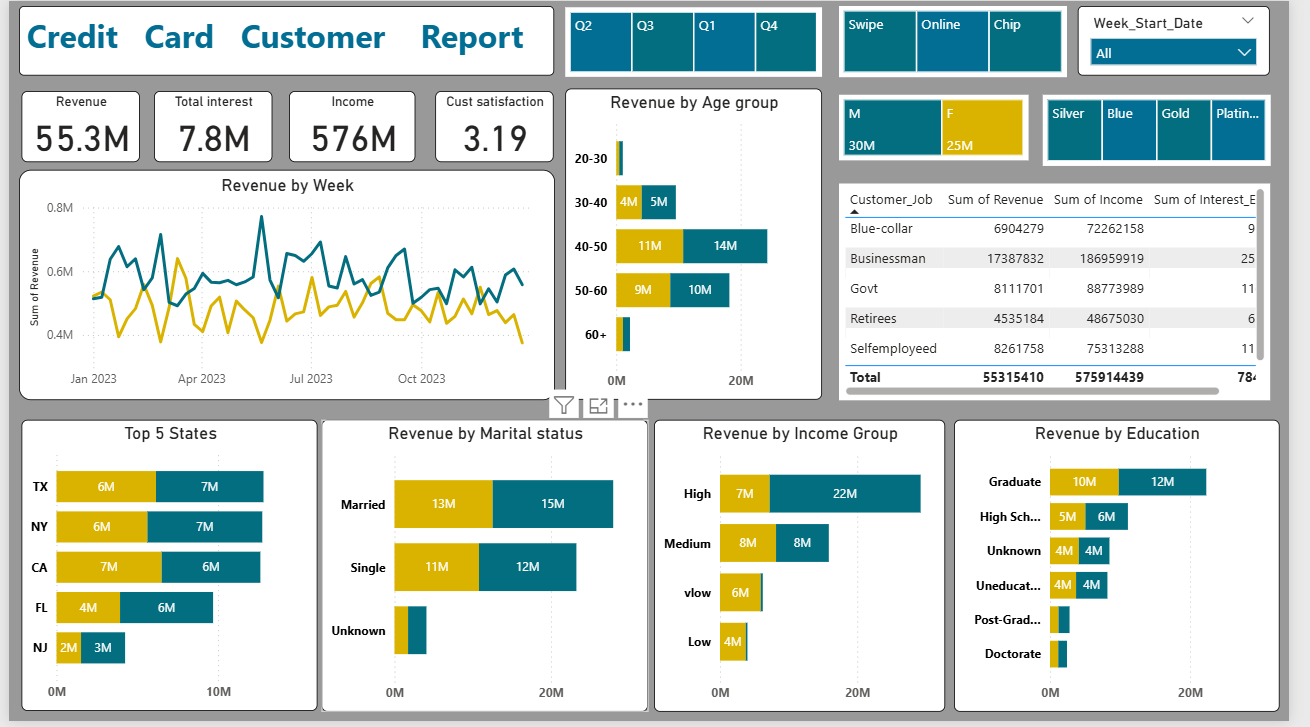

This screenshot's page, from the dashboard's own definition file:
{"tool":"powerbi","page":{"name":"CC customer","canvas":[1280,720],"ordinal":1},"visuals":[{"type":"textbox","box":[9.6,5.5,535.2,70],"z":0},{"type":"barChart","title":" Revenue by Income Group","fields":{"Category":["customer.salaryBkt"],"Y":["Sum(credit_card.Revenue)"],"Series":["customer.Gender"]},"box":[644.9,418.5,290.9,292.3],"z":1000},{"type":"card","title":"Revenue","fields":{"Values":["Sum(credit_card.Revenue)"]},"box":[12.3,90.6,118,71.4],"z":2000},{"type":"card","title":"Total interest","fields":{"Values":["Sum(credit_card.Interest_Earned)"]},"box":[145.5,90.6,118,71.4],"z":3000},{"type":"card","title":"Income","fields":{"Values":["Sum(customer.Income)"]},"box":[279.9,90.6,126.2,71.4],"z":4000},{"type":"card","title":"Cust satisfaction","fields":{"Values":["Avg(customer.Cust_Satisfaction_Score)"]},"box":[426.8,90.6,118,71.4],"z":5000},{"type":"treemap","fields":{"Group":["credit_card.Qtr"],"Values":["CountNonNull(credit_card.Client_Num)"]},"box":[555.7,6.9,256.6,70],"z":6000},{"type":"lineChart","title":"Revenue by Week","fields":{"Y":["Sum(credit_card.Revenue)"],"Category":["credit_card.Week_Start_Date.Variation.Date Hierarchy.Year","credit_card.Week_Start_Date.Variation.Date Hierarchy.Month","credit_card.Week_Start_Date.Variation.Date Hierarchy.Day"],"Series":["customer.Gender"]},"box":[9.7,168.9,535.7,230.4],"z":7000},{"type":"treemap","fields":{"Group":["customer.Gender"],"Values":["Sum(credit_card.Revenue)"]},"box":[830.2,93.3,189.4,65.9],"z":8000},{"type":"barChart","title":" Revenue by Age group","fields":{"Category":["customer.AgeGroup"],"Y":["Sum(credit_card.Revenue)"],"Series":["customer.Gender"]},"box":[555.7,87.8,256.6,311.5],"z":9000},{"type":"barChart","title":" Revenue by Education","fields":{"Category":["customer.Education_Level"],"Y":["Sum(credit_card.Revenue)"],"Series":["customer.Gender"]},"box":[945.5,418.5,325.2,292.3],"z":10000},{"type":"barChart","title":" Top 5 States","fields":{"Category":["customer.state_cd"],"Y":["Sum(credit_card.Revenue)"],"Series":["customer.Gender"]},"box":[12.3,418.5,296.4,290.9],"z":11000},{"type":"tableEx","fields":{"Values":["customer.Customer_Job","Sum(credit_card.Revenue)","Sum(customer.Income)","Sum(credit_card.Interest_Earned)"]},"box":[830.2,182.5,430.9,216.8],"z":12000},{"type":"barChart","title":" Revenue by Marital status","fields":{"Category":["customer.Marital_Status"],"Y":["Sum(credit_card.Revenue)"],"Series":["customer.Gender"]},"box":[312.9,418.5,326.6,292.3],"z":13000},{"type":"slicer","fields":{"Values":["credit_card.Week_Start_Date"]},"box":[1069,5.5,192.1,70],"z":14000},{"type":"treemap","fields":{"Values":["Avg(credit_card.Client_Num)"],"Group":["credit_card.Use Chip"]},"box":[830.2,5.5,227.8,71.4],"z":15000},{"type":"treemap","fields":{"Values":["Avg(credit_card.Client_Num)"],"Group":["credit_card.Card_Category"]},"box":[1033.3,93.3,227.8,71.4],"z":16000}]}

Visuals, with their boxes in screenshot pixels (x1, y1, x2, y2), scaled from the page's 1280x720 canvas onto the 1310x727 screenshot:
textbox: 10:6:558:76
" Revenue by Income Group" barChart: 660:423:958:718
"Revenue" card: 13:91:133:164
"Total interest" card: 149:91:270:164
"Income" card: 286:91:416:164
"Cust satisfaction" card: 437:91:558:164
treemap - credit_card.Qtr x CountNonNull(credit_card.Client_Num): 569:7:831:78
"Revenue by Week" lineChart: 10:171:558:403
treemap - customer.Gender x Sum(credit_card.Revenue): 850:94:1043:161
" Revenue by Age group" barChart: 569:89:831:403
" Revenue by Education" barChart: 968:423:1300:718
" Top 5 States" barChart: 13:423:316:716
tableEx - customer.Customer_Job x Sum(credit_card.Revenue): 850:184:1291:403
" Revenue by Marital status" barChart: 320:423:654:718
slicer - credit_card.Week_Start_Date: 1094:6:1291:76
treemap - Avg(credit_card.Client_Num) x credit_card.Use Chip: 850:6:1083:78
treemap - Avg(credit_card.Client_Num) x credit_card.Card_Category: 1058:94:1291:166
